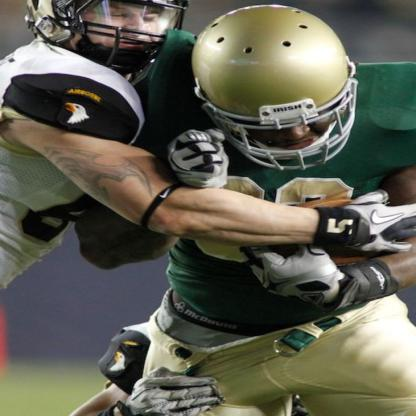Helmet: (191, 3, 361, 172), (23, 0, 188, 86)
